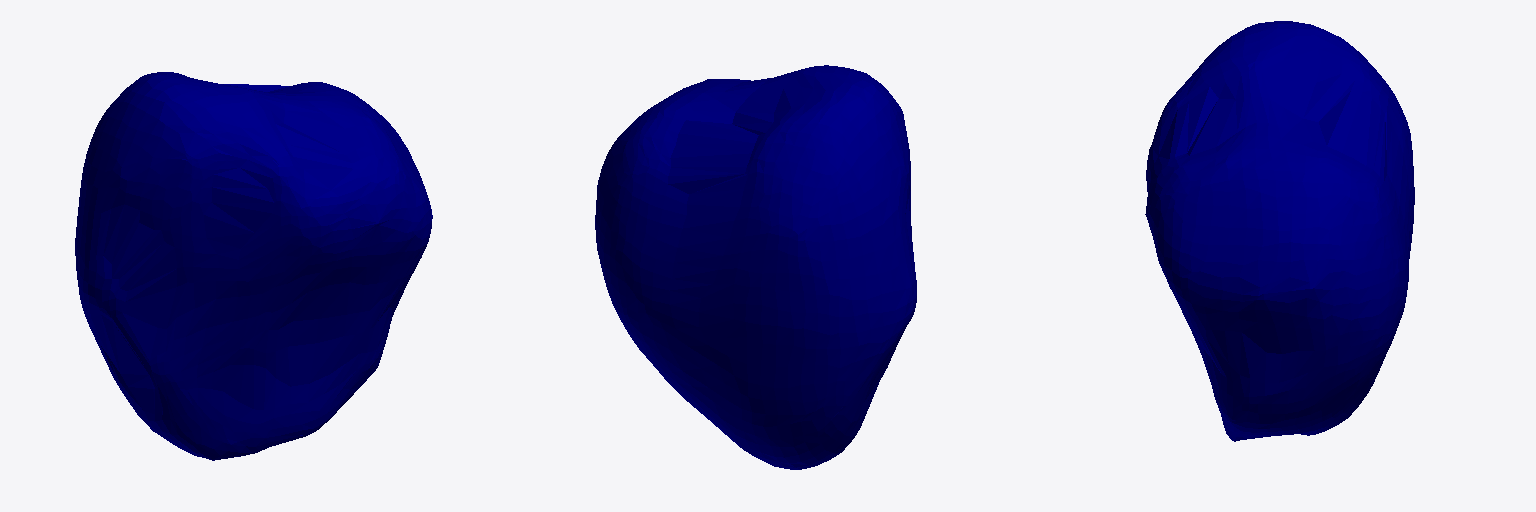
The model's file is SesamoidL.obj.
3 views of the same model, side by side, from view 1: azimuth 30°, elevation 25°; view 2: azimuth 150°, elevation 25°; view 3: azimuth 270°, elevation 25° (orthographic).
Visible parts, largest first — view 1: Object_0SesamoidL; view 2: Object_0SesamoidL; view 3: Object_0SesamoidL.
Boxes of the visible parts, <box> form: Object_0SesamoidL: <box>75,72,432,460</box>; Object_0SesamoidL: <box>595,65,916,469</box>; Object_0SesamoidL: <box>1145,21,1414,441</box>.
Bounding box in the file's own units: 10.98 × 12.84 × 8.19.